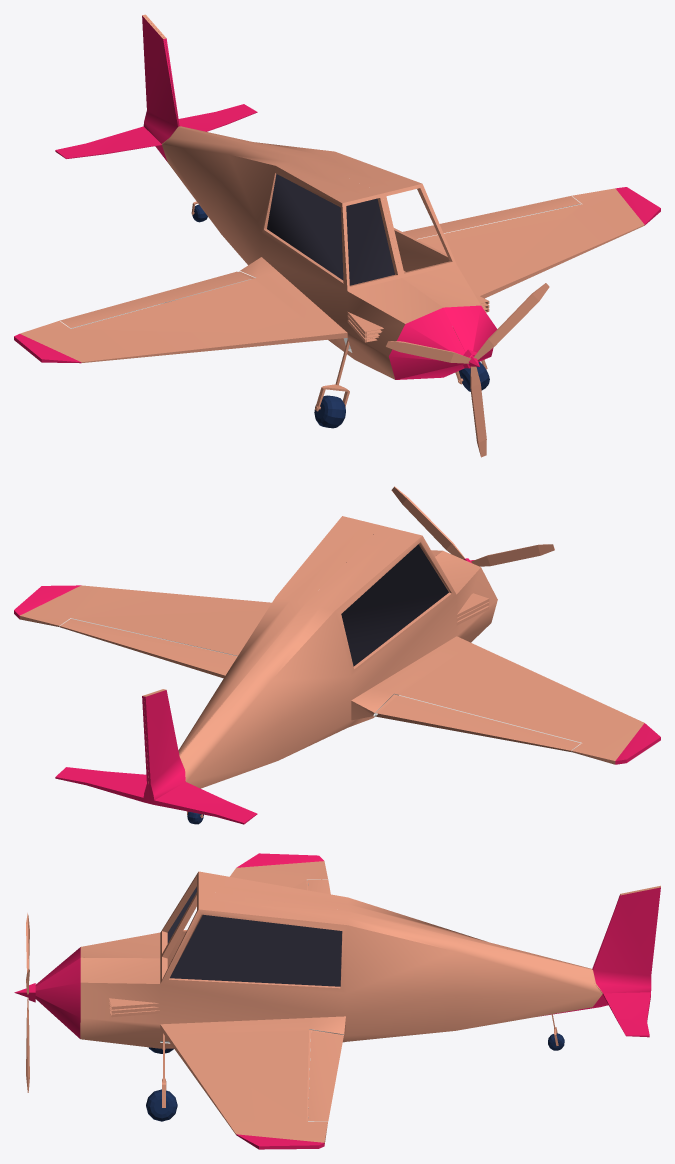
File: cartoon_plane.glb
3 renders of one model, top to bottom at view 1: azimuth 30°, elevation 25°; view 2: azimuth 150°, elevation 25°; view 3: azimuth 270°, elevation 25°, orthographic. The views are drawn at different scales.
Parts seen in each view (by area): view 1: Cube_1_3, Propeller_1, Wheel_4; view 2: Cube_1_3, Propeller_1; view 3: Cube_1_3, Propeller_1, Wheel_2.
Boxes of the visible parts, bbox=[...] form: Cube_1_3: bbox=[14, 14, 660, 379]; Propeller_1: bbox=[385, 283, 549, 457]; Wheel_4: bbox=[314, 395, 345, 428]; Cube_1_3: bbox=[14, 516, 660, 824]; Propeller_1: bbox=[391, 486, 554, 566]; Cube_1_3: bbox=[35, 853, 660, 1149]; Propeller_1: bbox=[14, 913, 35, 1092]; Wheel_2: bbox=[146, 1089, 177, 1121].
Size of the model in its own units: 2.09 by 0.6675 by 1.96.
